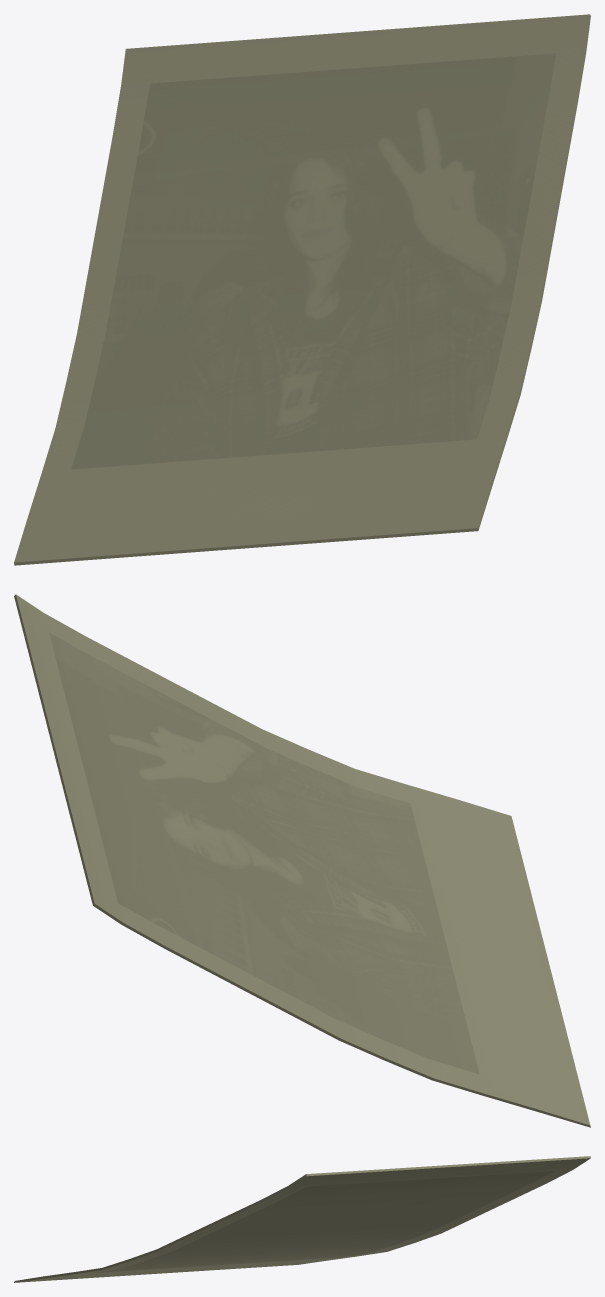
The picture shows the model from 3 angles, top to bottom: view 1: azimuth 30°, elevation 25°; view 2: azimuth 150°, elevation 25°; view 3: azimuth 270°, elevation 25°; orthographic projection. The views are drawn at different scales.
Visible parts, largest first — view 1: Object_3, Object_5; view 2: Object_3, Object_5; view 3: Object_4, Object_5.
Boxes of the visible parts, x1,y1,x2,y2 form: Object_3: (71, 53, 555, 469); Object_5: (14, 14, 590, 565); Object_3: (49, 632, 479, 1074); Object_5: (14, 594, 590, 1127); Object_4: (95, 1171, 554, 1272); Object_5: (14, 1156, 590, 1282).
Bounding box in the file's own units: 27.2 × 18.12 × 31.5.
3 materials, 3 textured.
